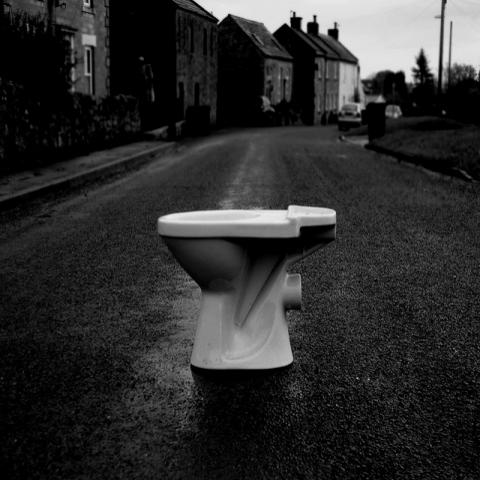car: (339, 101, 360, 121), (385, 105, 402, 120)
